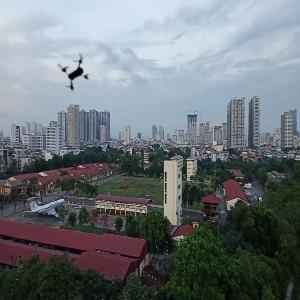drone: (54, 52, 95, 93)
